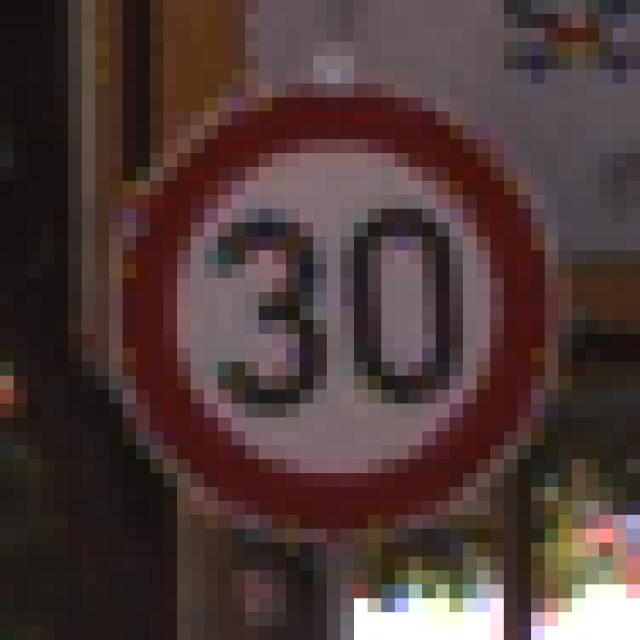Speed Limit -30-: (61, 62, 552, 550)
